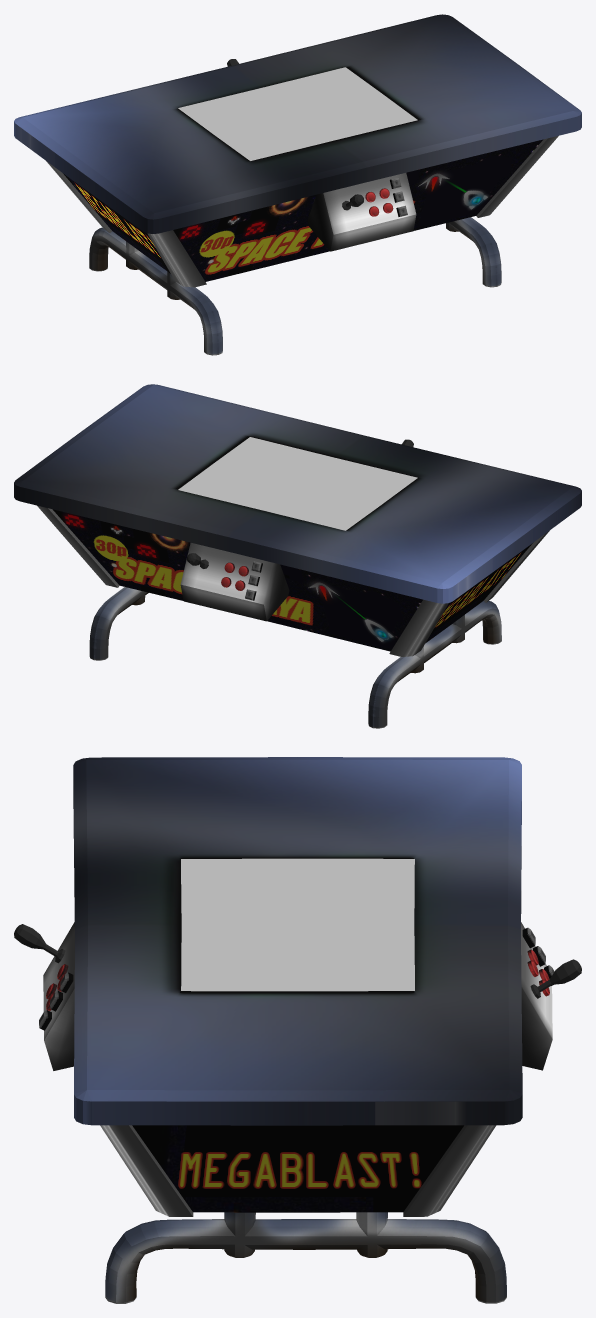
The model's file is Arcade03.fbx.
3 views of the same model, one above another, from view 1: azimuth 30°, elevation 25°; view 2: azimuth 150°, elevation 25°; view 3: azimuth 270°, elevation 25° (orthographic). The views are drawn at different scales.
Visible parts, largest first — view 1: Empty_Mesh; view 2: Empty_Mesh; view 3: Empty_Mesh.
Part boxes in pixels (left/top/right/bottom): Empty_Mesh: left=14, top=14, right=581, bottom=355; Empty_Mesh: left=14, top=384, right=581, bottom=728; Empty_Mesh: left=14, top=757, right=581, bottom=1303.
Size of the model in its own units: 216 by 76.92 by 151.
